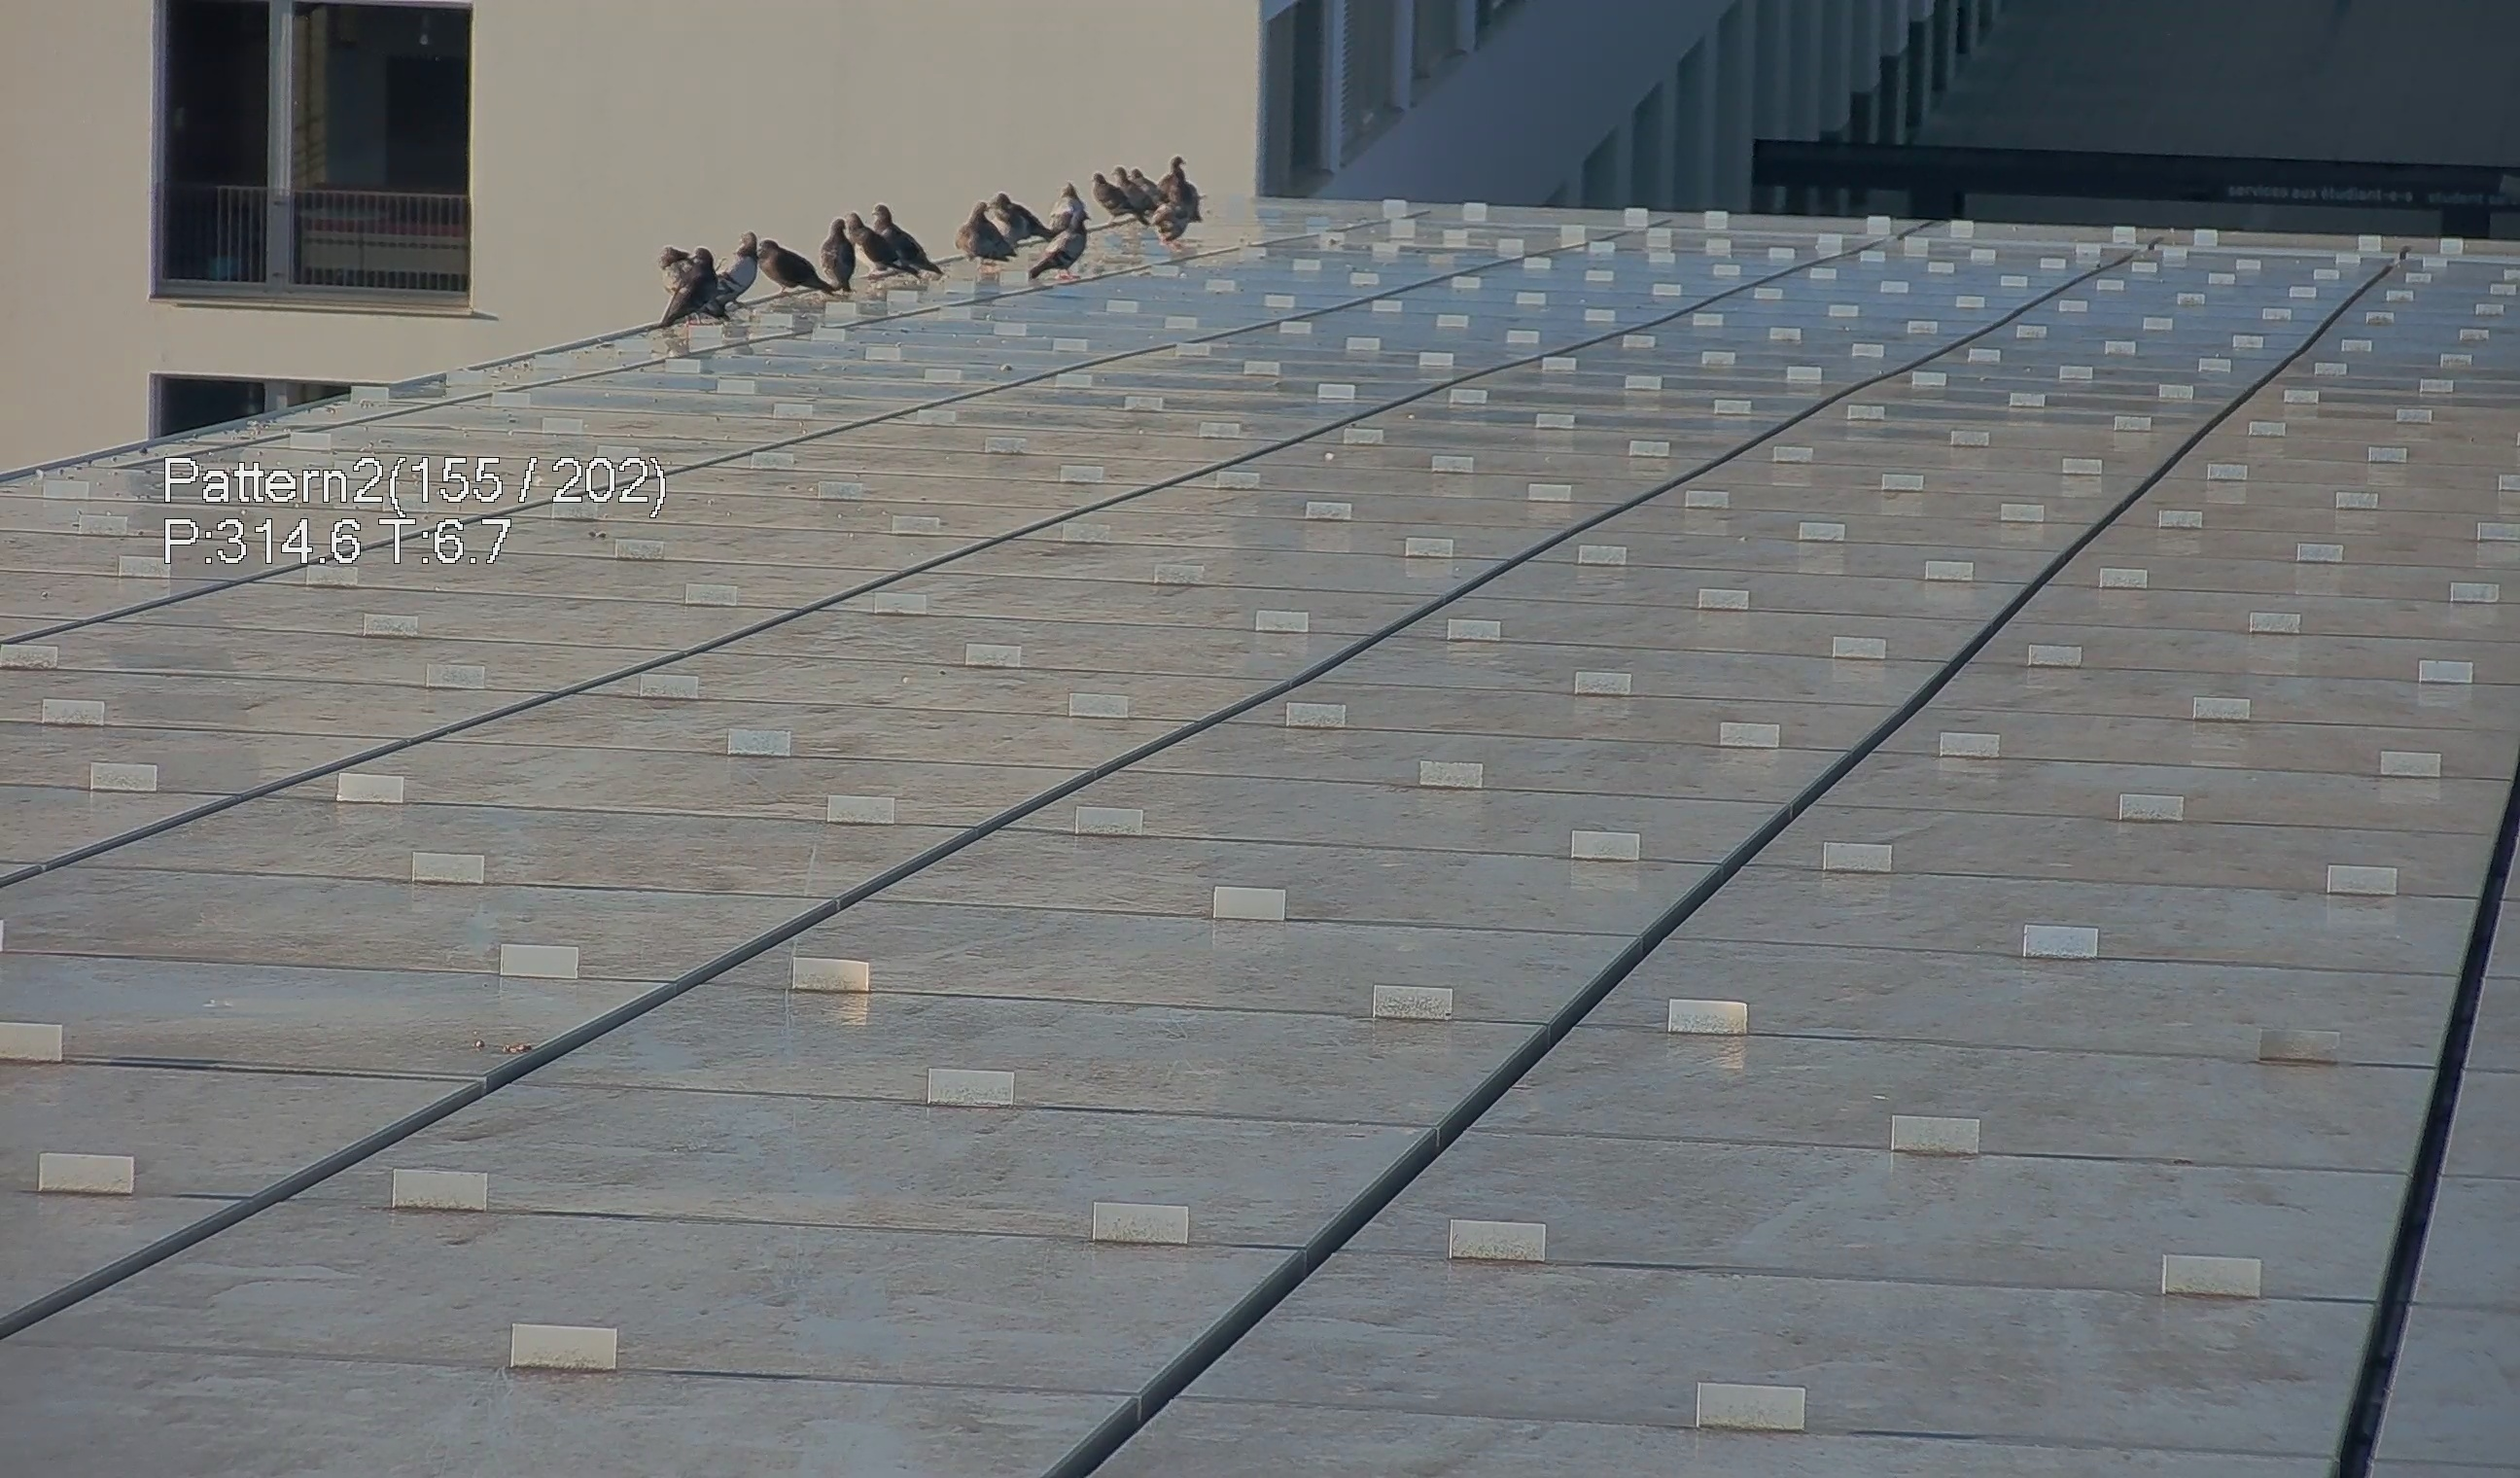Pigeon: (842, 208, 914, 280), (659, 241, 721, 322), (753, 238, 828, 297), (874, 199, 936, 271), (1036, 211, 1092, 289), (712, 225, 760, 308), (955, 201, 1011, 269), (988, 194, 1057, 243), (819, 218, 856, 292), (1090, 171, 1136, 223), (1148, 197, 1192, 250), (1111, 165, 1152, 218), (1053, 183, 1087, 238), (1166, 174, 1203, 220), (1157, 153, 1189, 204)
